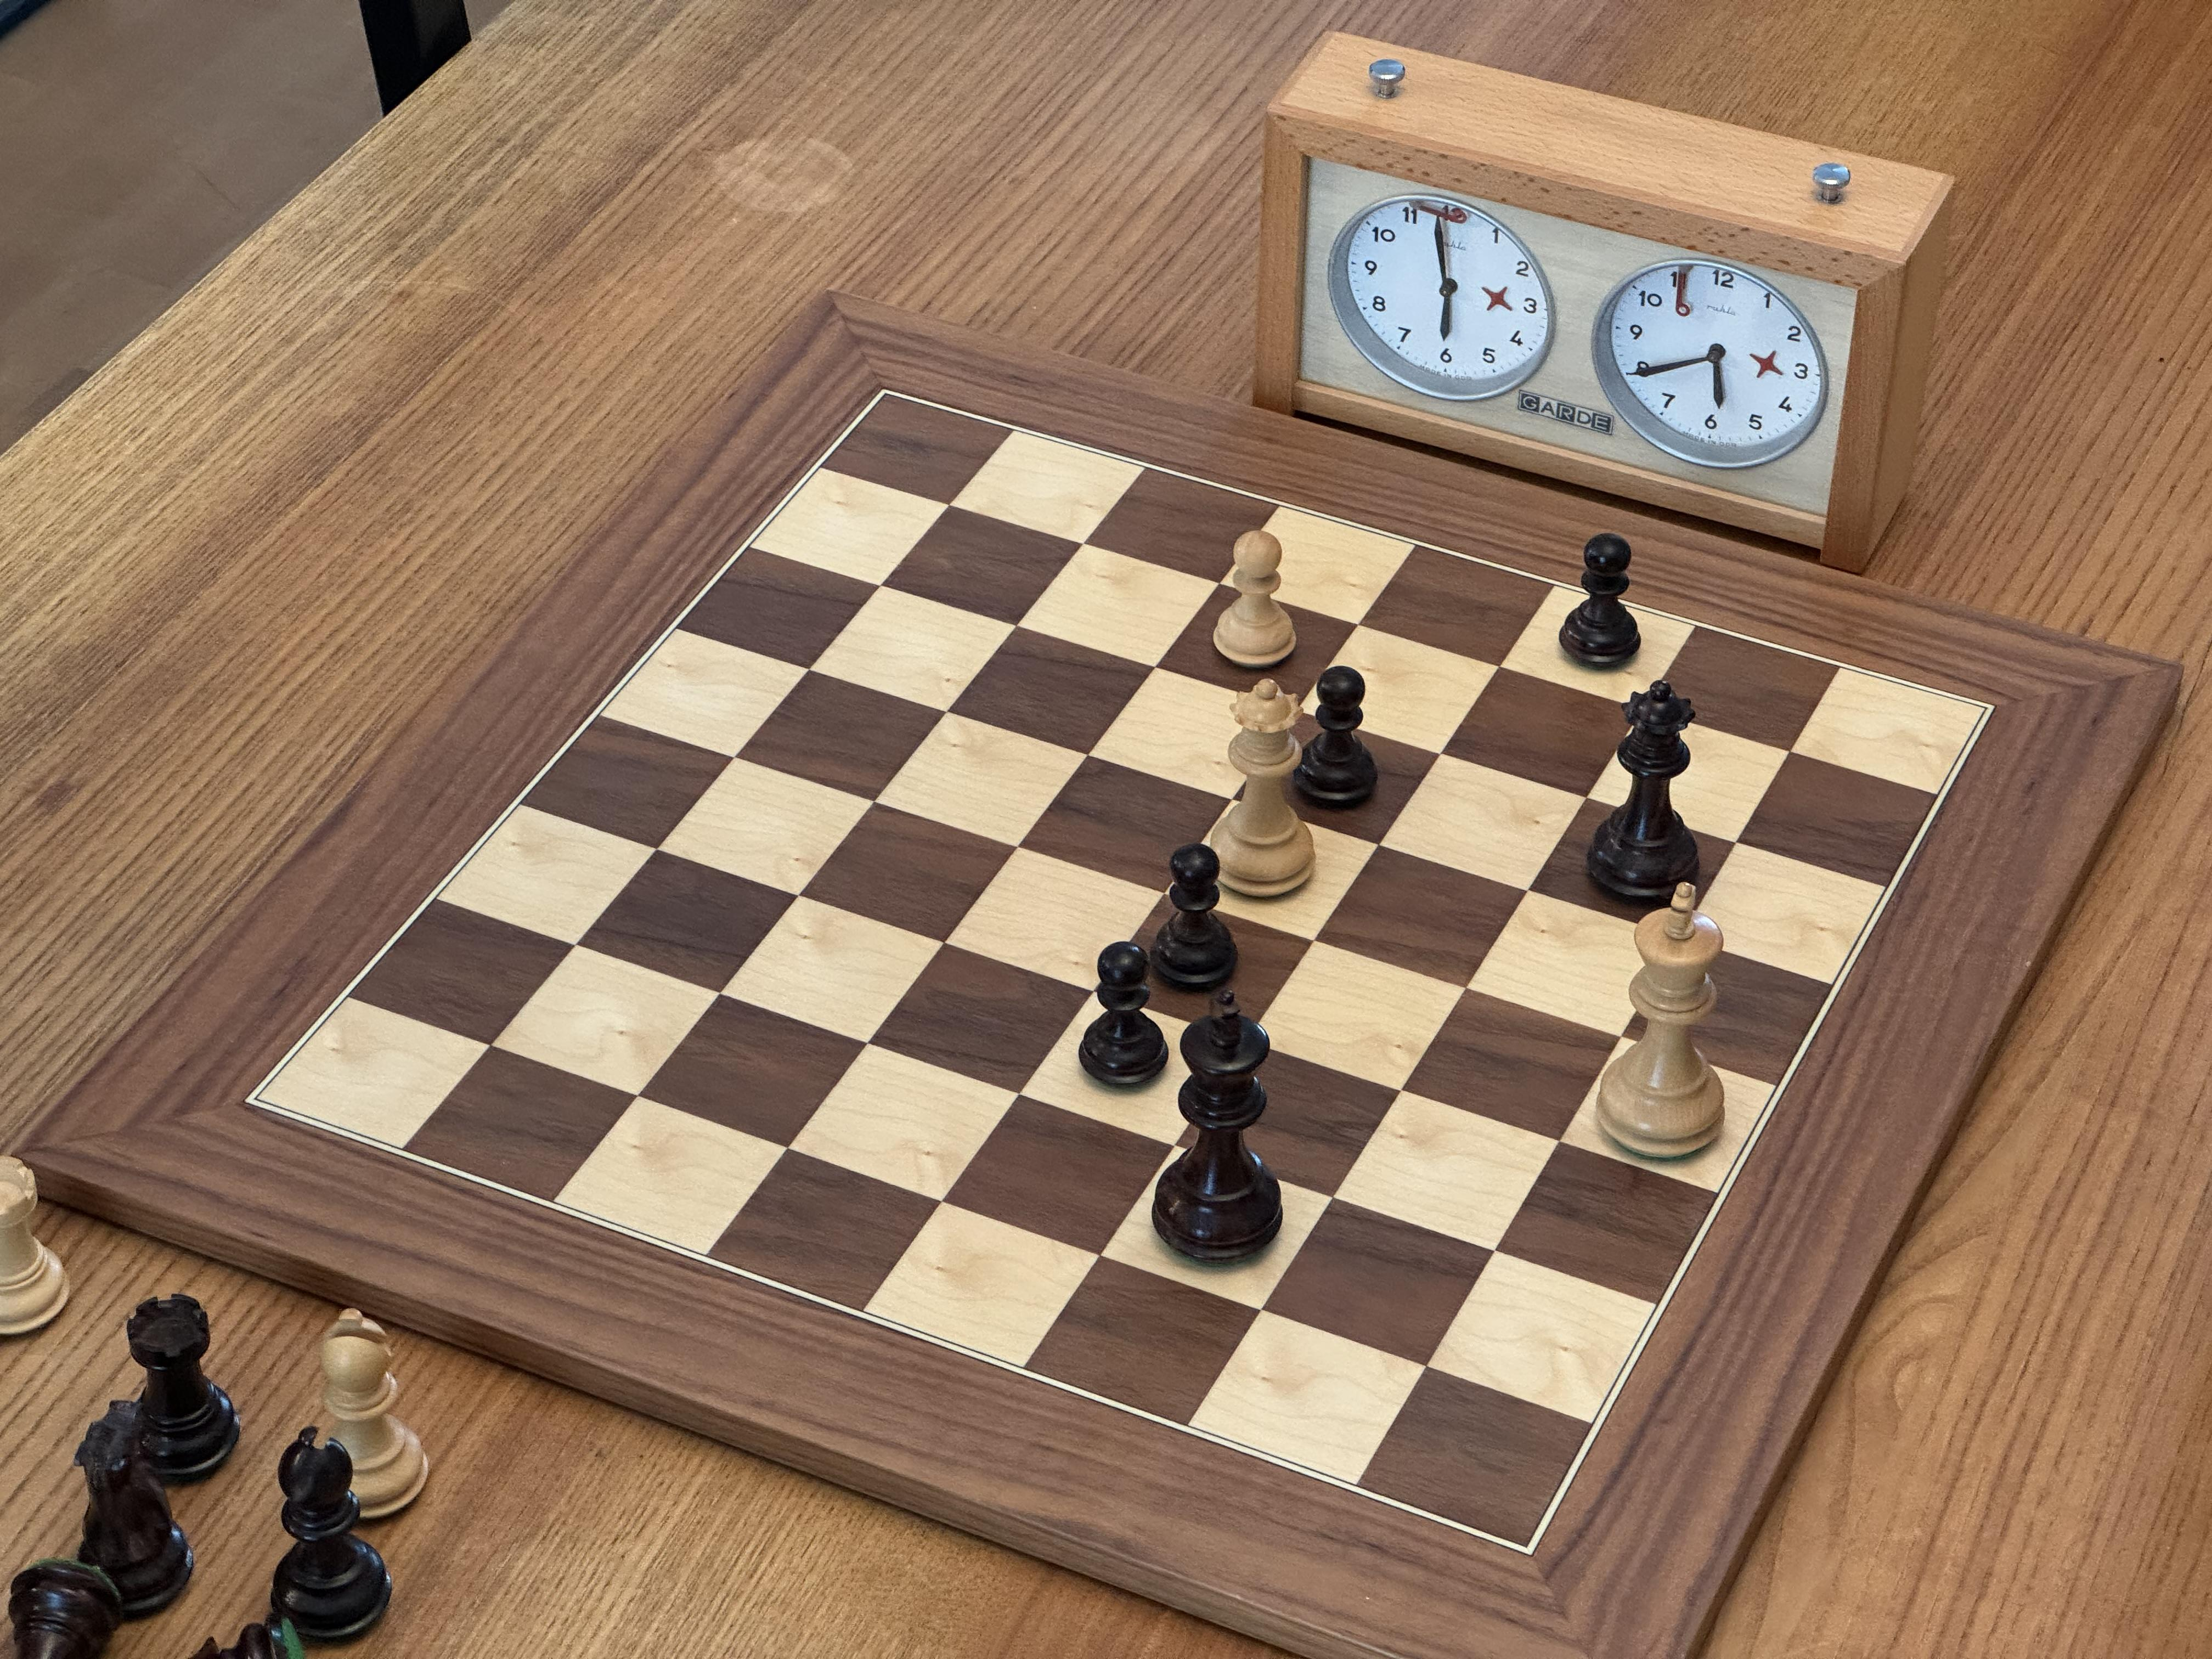Black King: (1145, 984, 1296, 1273)
Black Pawn: (1139, 840, 1244, 999), (1074, 936, 1173, 1097), (1548, 529, 1647, 675), (1291, 663, 1383, 817)
Black Queen: (1569, 669, 1714, 918)
White King: (1584, 876, 1734, 1171)
White Pawn: (1204, 524, 1302, 673)
White Queen: (1200, 676, 1319, 907)
